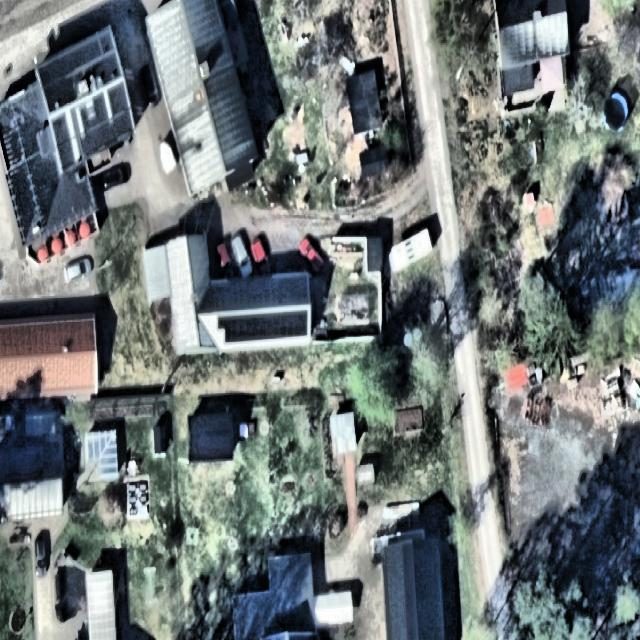roof_pv: (215, 309, 311, 345)
